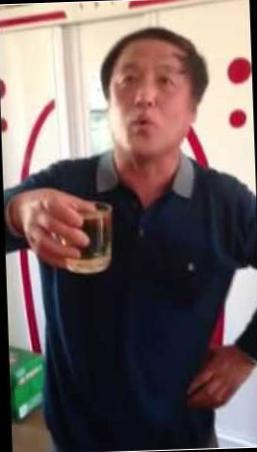Drunk: (108, 43, 190, 153)
